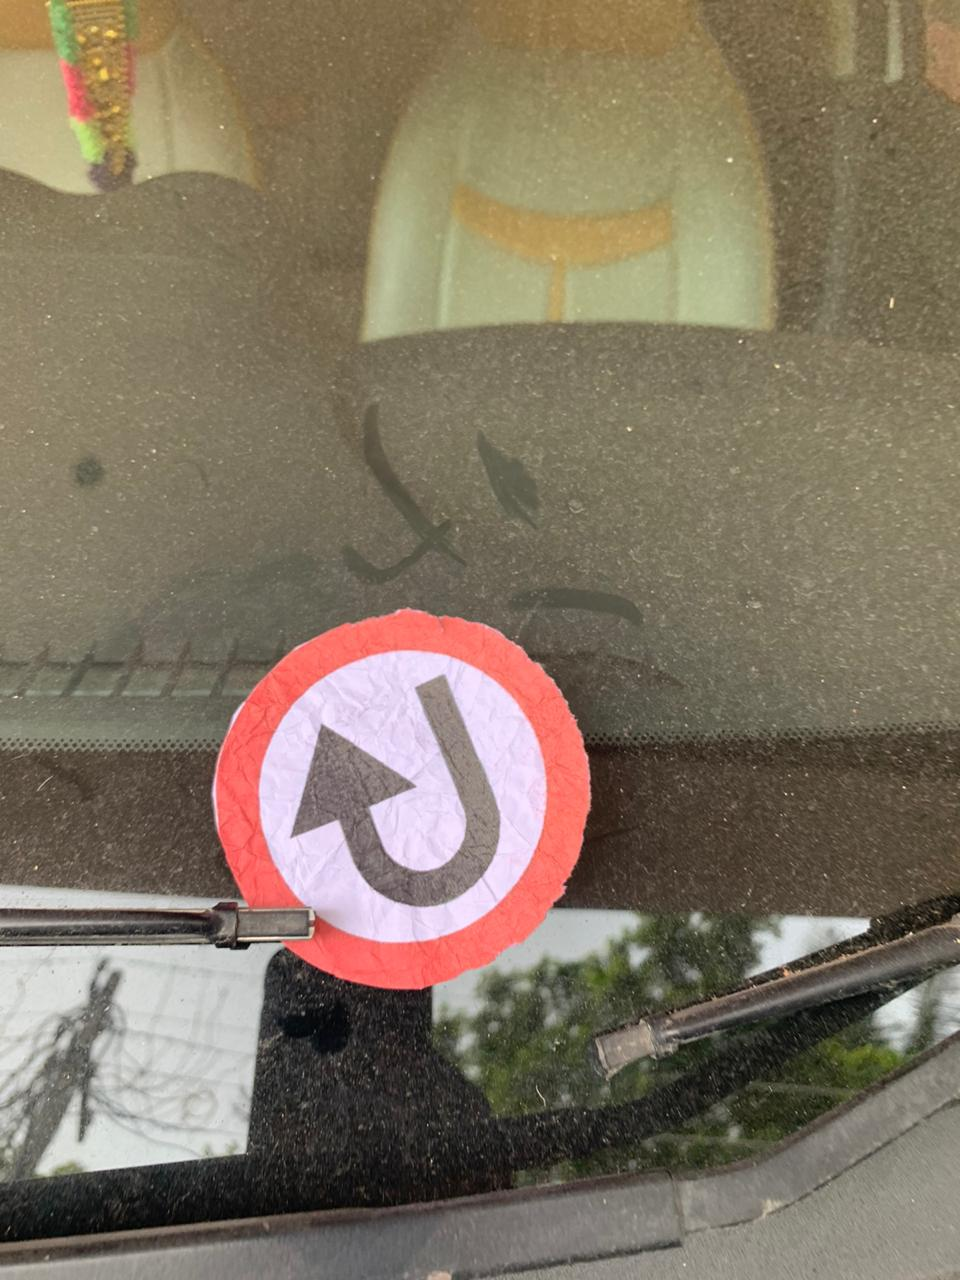U-TURN: (203, 573, 645, 971)
